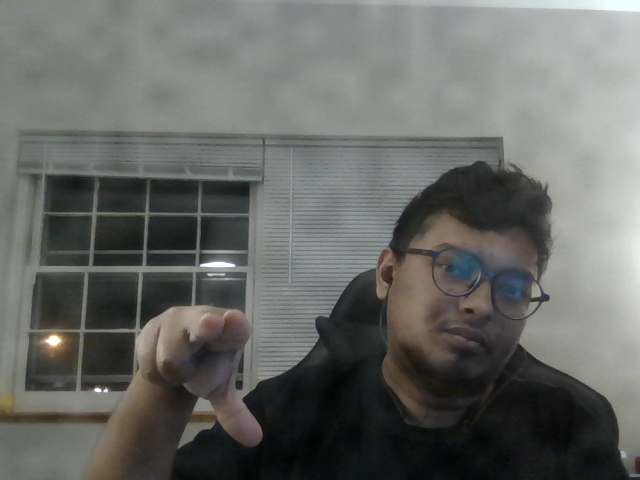no: (118, 298, 286, 456)
